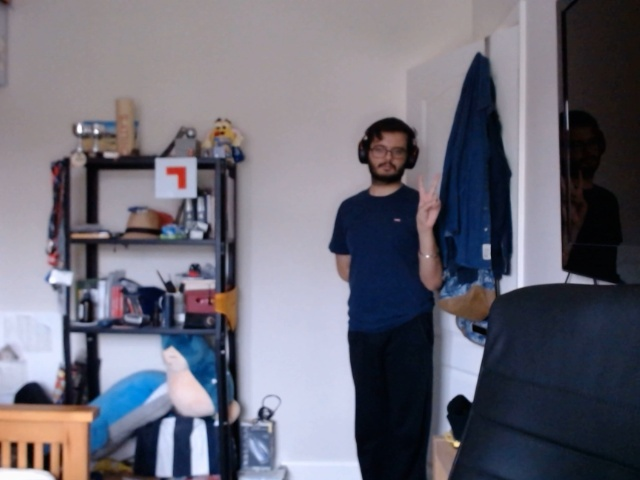Peace: (406, 174, 449, 227)
